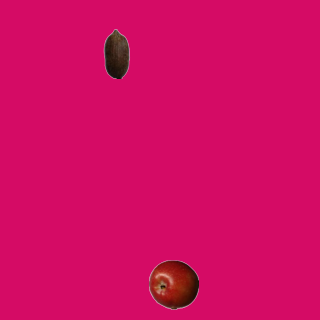Apple Braeburn: (148, 259, 198, 309)
Nut Pecan: (91, 28, 141, 78)
